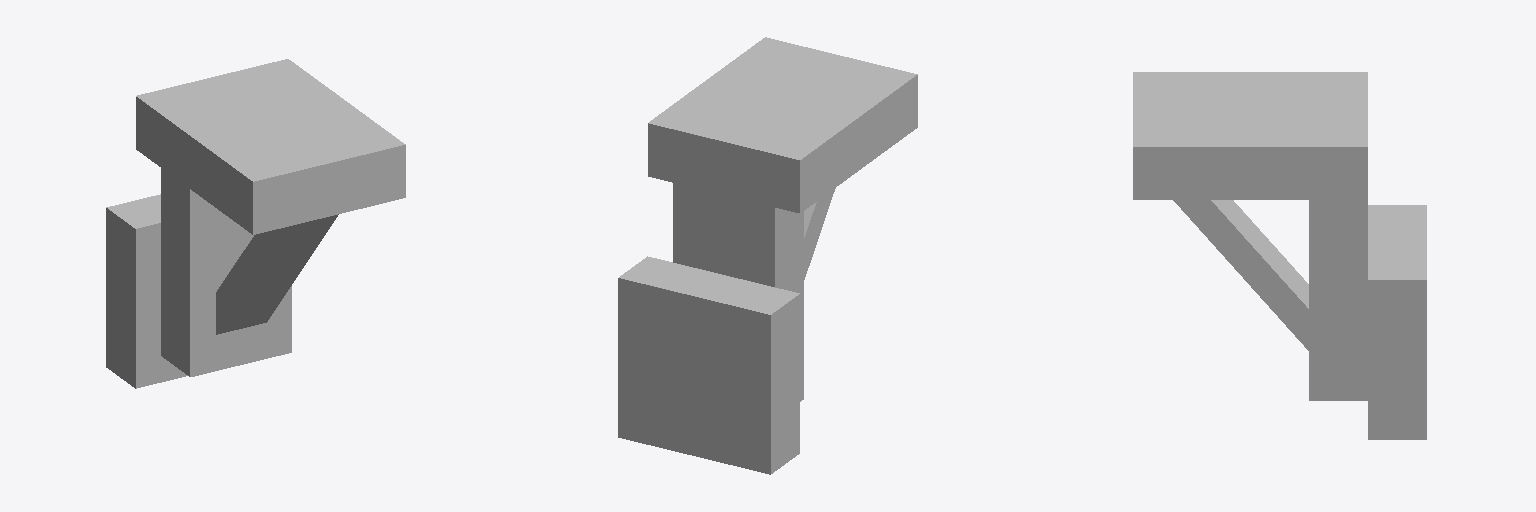
The model's file is wallmount_sideways.obj.
3 renders of one model, left to right at view 1: azimuth 30°, elevation 25°; view 2: azimuth 150°, elevation 25°; view 3: azimuth 270°, elevation 25°, orthographic.
Parts seen in each view (by area): view 1: sideways; view 2: sideways; view 3: sideways.
Part boxes in pixels (bbox=[...]): sideways: bbox=[106, 59, 405, 388]; sideways: bbox=[618, 37, 917, 474]; sideways: bbox=[1133, 72, 1426, 439].
Bounding box in the file's own units: 0.375 × 0.6875 × 0.625.